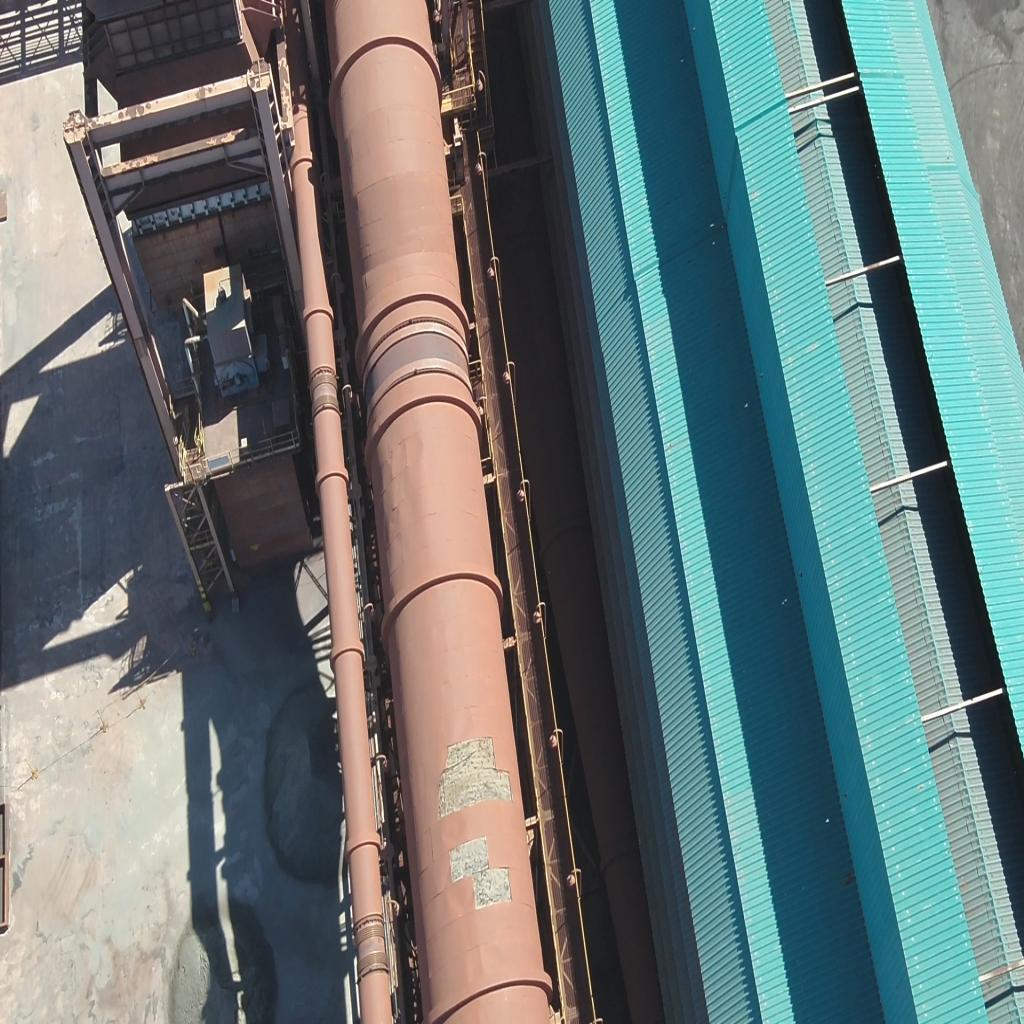Failures: (439, 740, 512, 812), (450, 836, 490, 880), (475, 870, 511, 906)
